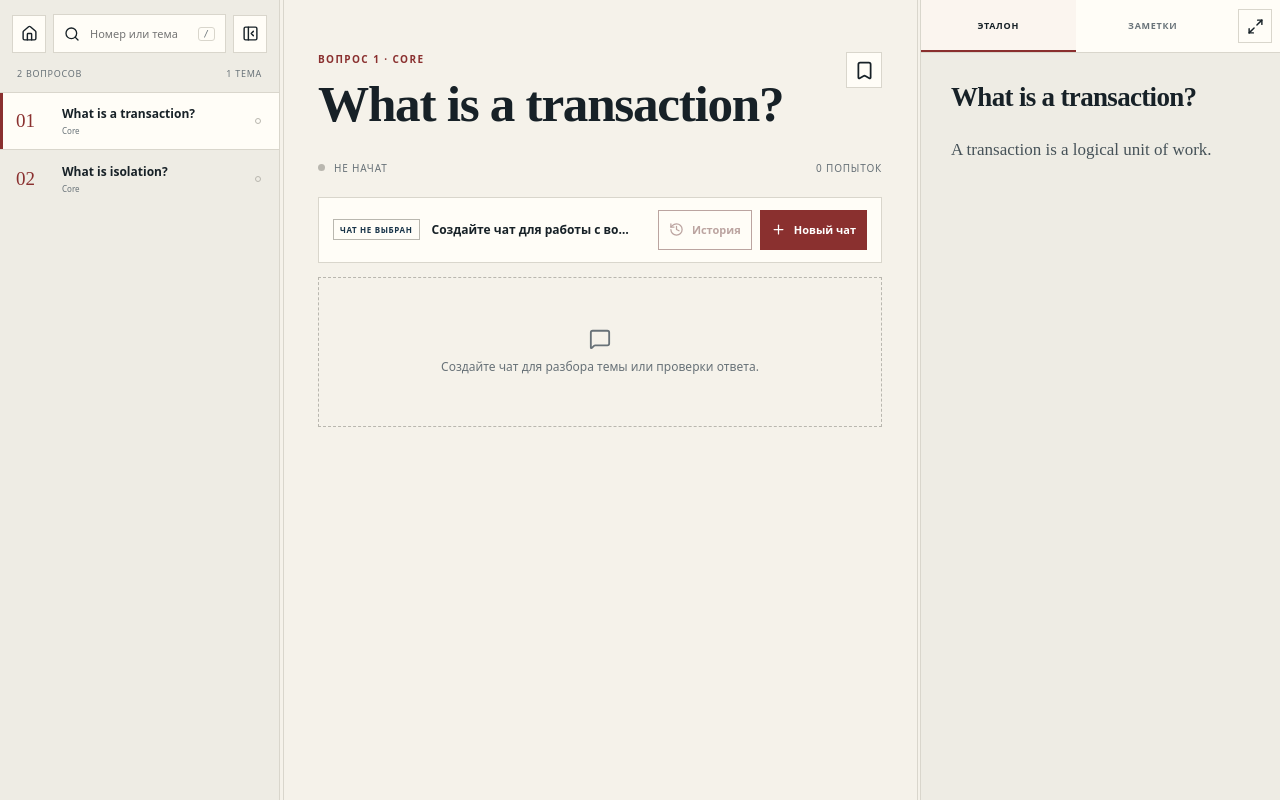
it: Workspace › navigates between questions without leaving fullscreen answers
Click the button named "развернуть документ на весь экран" at {"x": 1255, "y": 26}, box [1238,9,1272,43]
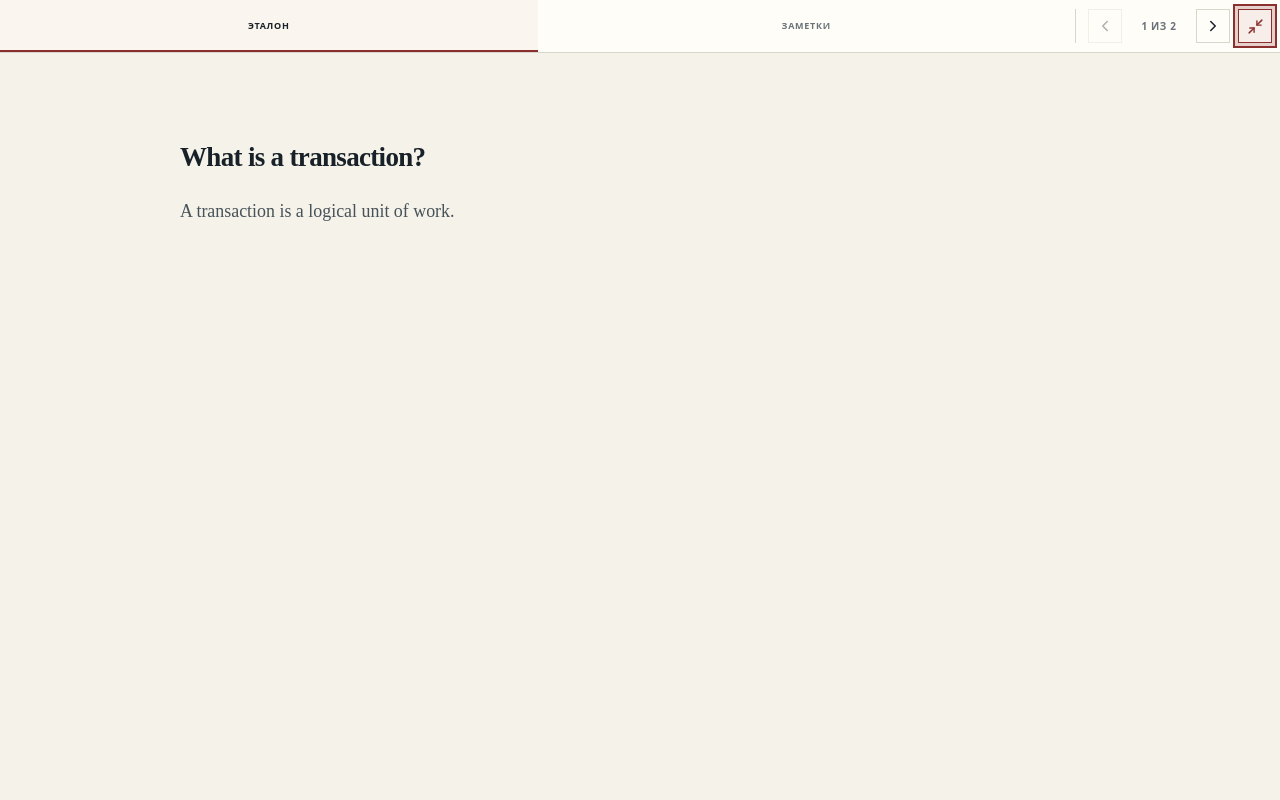
Expected: the button named "предыдущий вопрос" is disabled, [1088,9,1122,43]
Expected: the text "1 из 2" is shown, [1142,19,1176,33]
Click the button named "следующий вопрос" at {"x": 1213, "y": 26}, box [1196,9,1230,43]
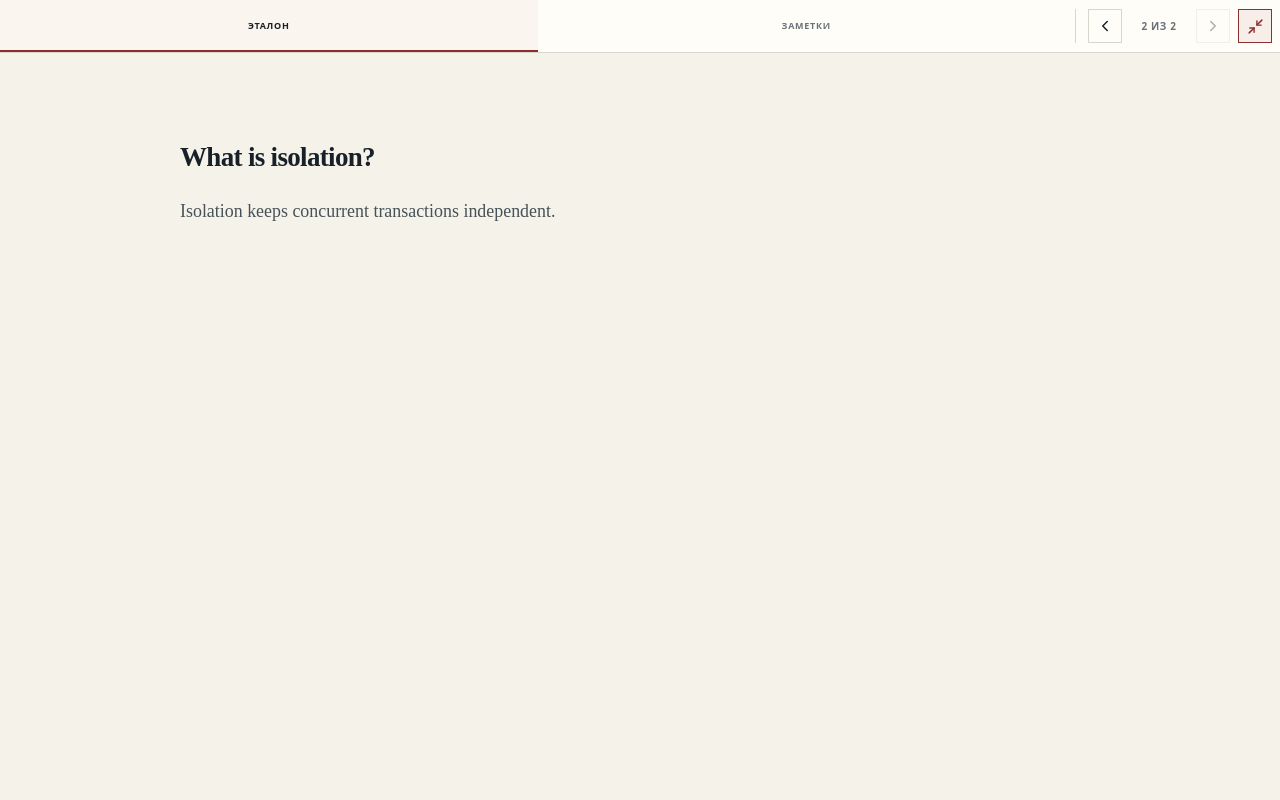
Expected: the text "Isolation keeps concurrent transactions independent." is shown, [180,201,555,221]
Expected: the text "2 из 2" is shown, [1142,19,1176,33]
